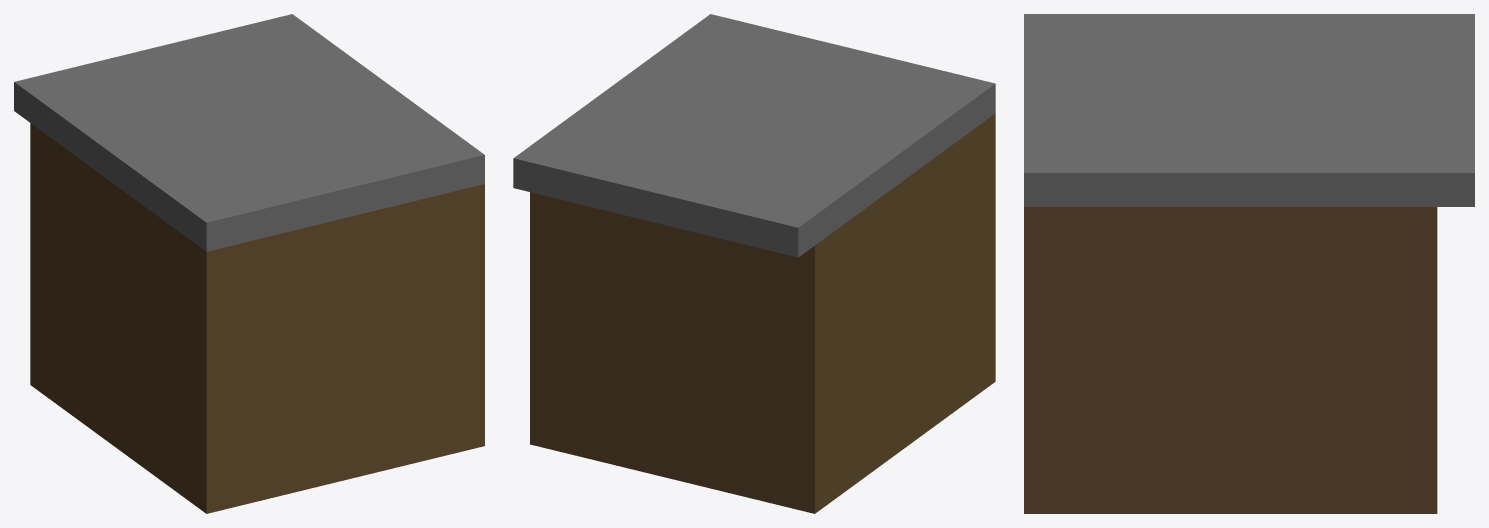
The model's file is CounterPiece_01.fbx.
3 views of the same model, side by side, from view 1: azimuth 30°, elevation 25°; view 2: azimuth 150°, elevation 25°; view 3: azimuth 270°, elevation 25° (orthographic). The views are drawn at different scales.
Visible parts, largest first — view 1: Counter_01; view 2: Counter_01; view 3: Counter_01.
Part boxes in pixels (x1,y1,x2,y2): Counter_01: (14, 14, 484, 513); Counter_01: (513, 14, 995, 513); Counter_01: (1024, 14, 1474, 513).
Bounding box in the file's own units: 1 × 1 × 1.2.
